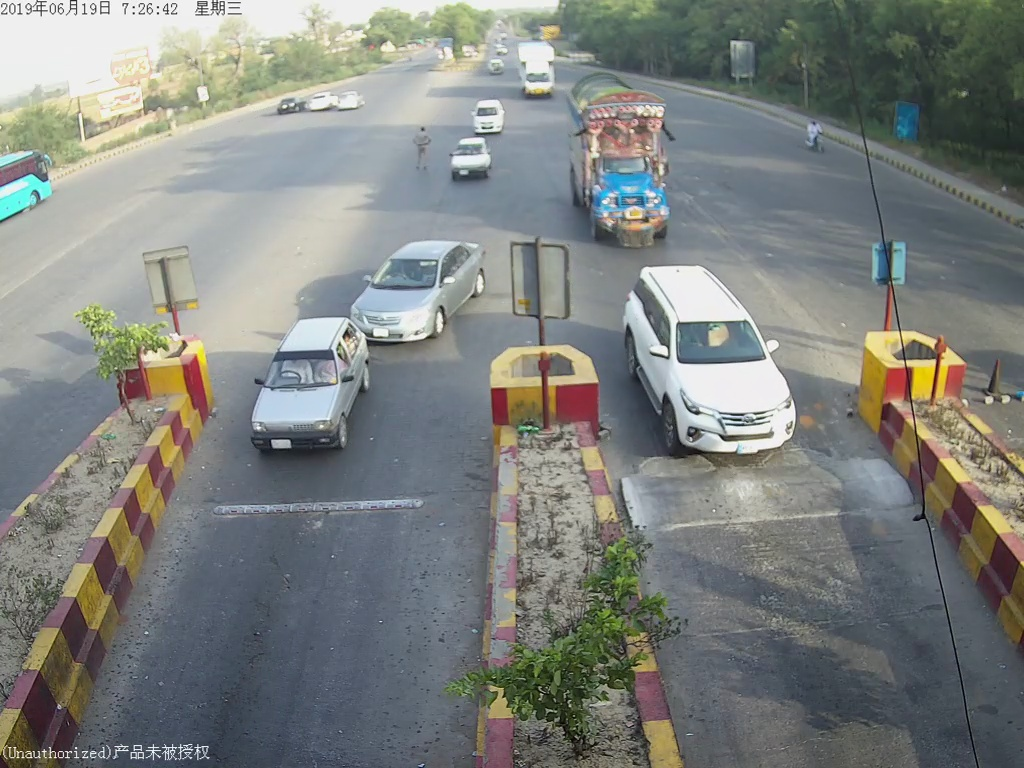Cat-1: (627, 264, 810, 474), (353, 222, 491, 345), (246, 326, 371, 450), (448, 134, 491, 184)
Cat-4: (569, 83, 676, 247)
